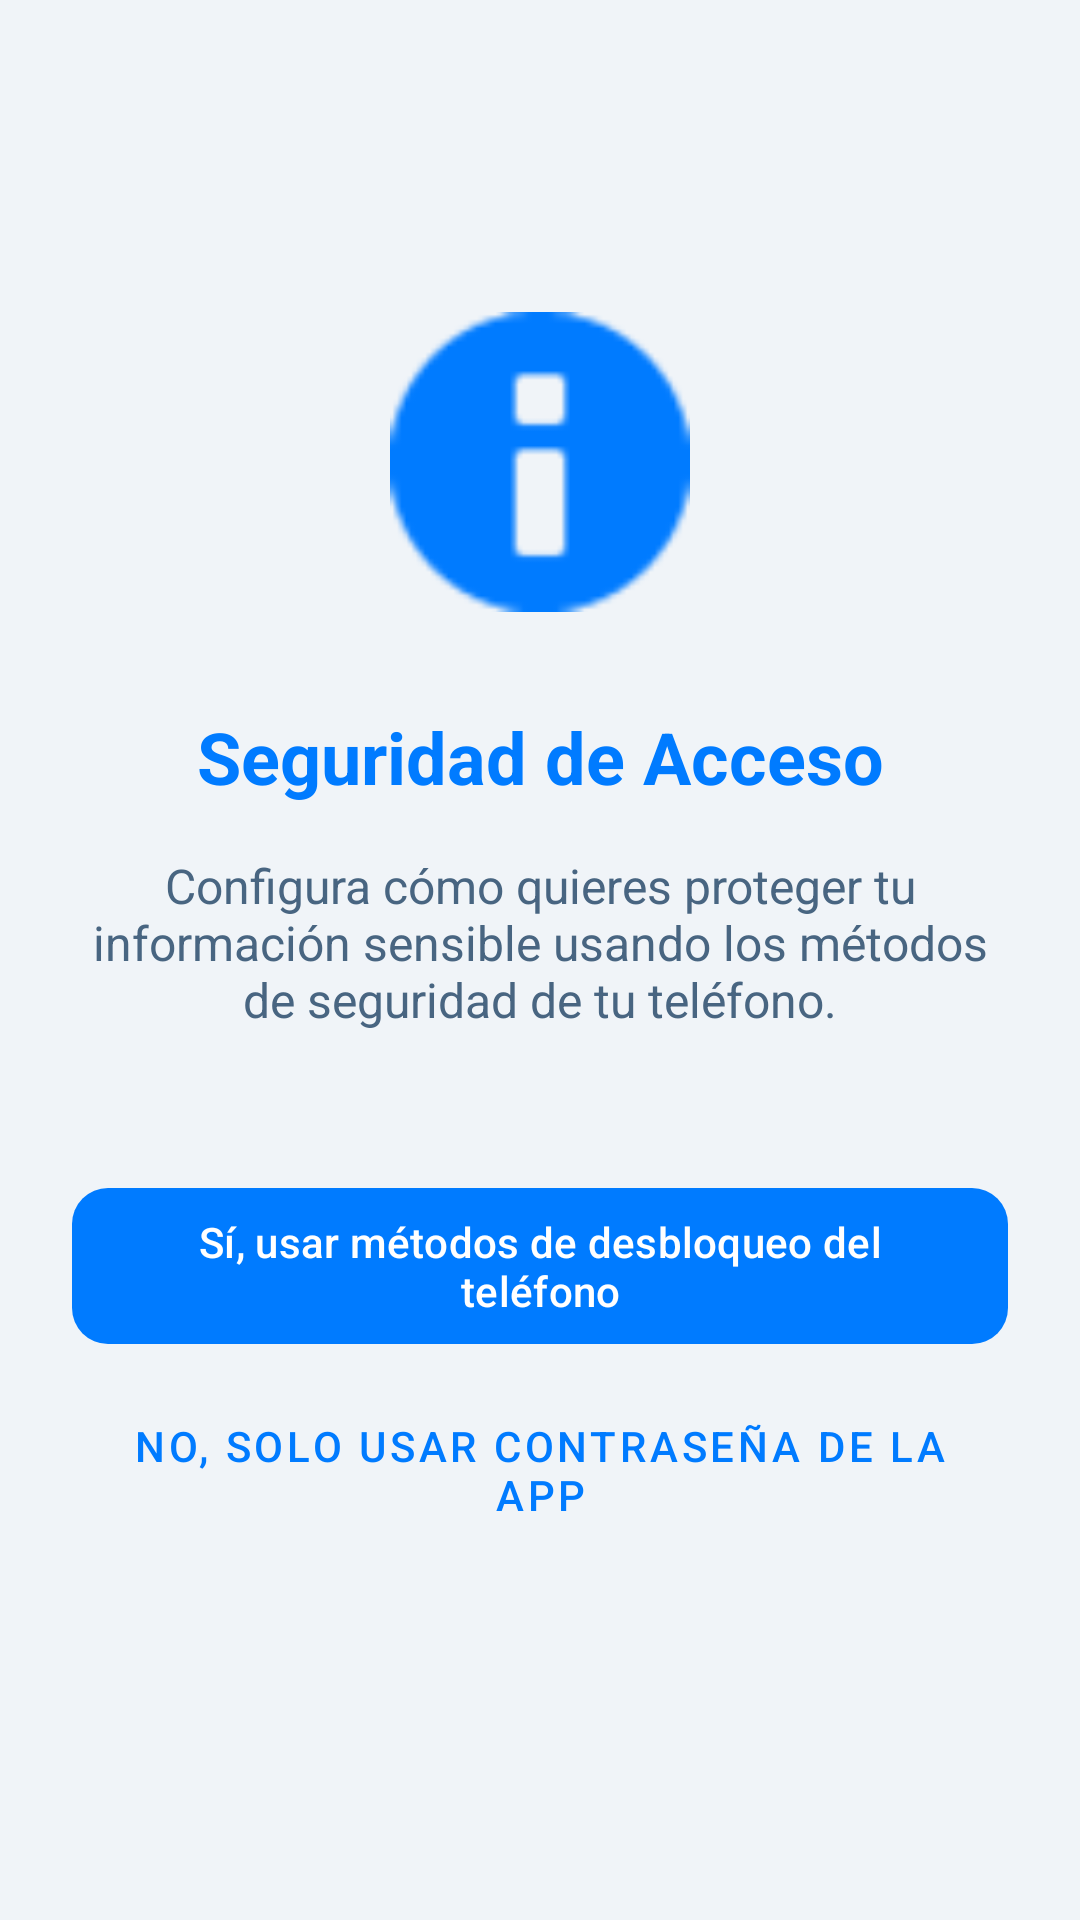

Screen size 1080x1920. Icon name, then its box in pixels as bbox(x1, y1, x2, y2):
info: bbox(390, 312, 690, 612)
